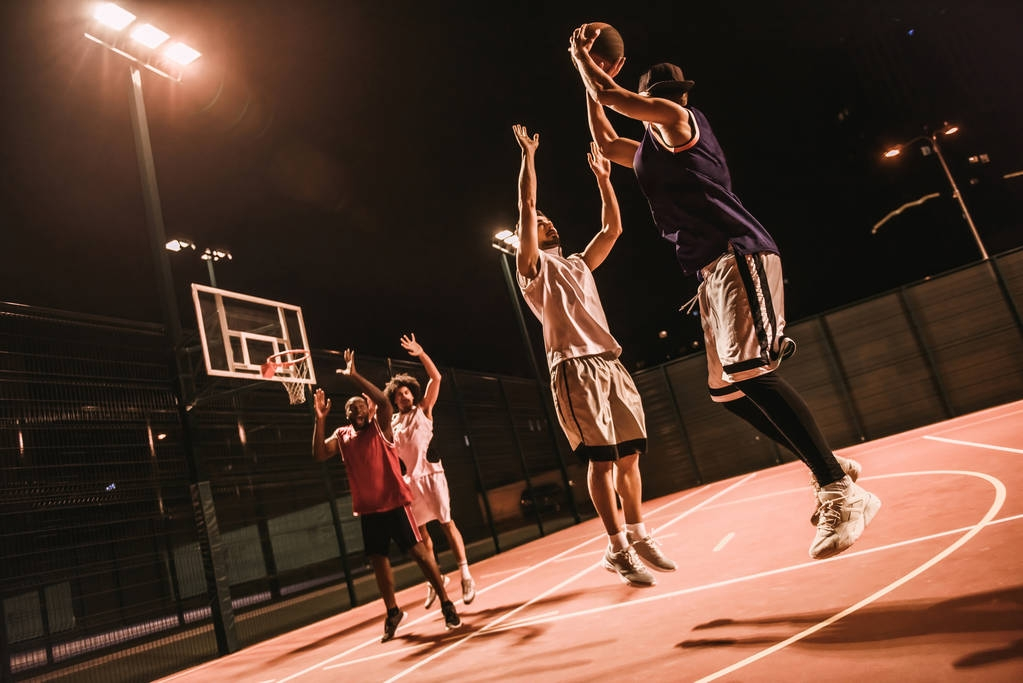ball: (570, 21, 624, 77)
